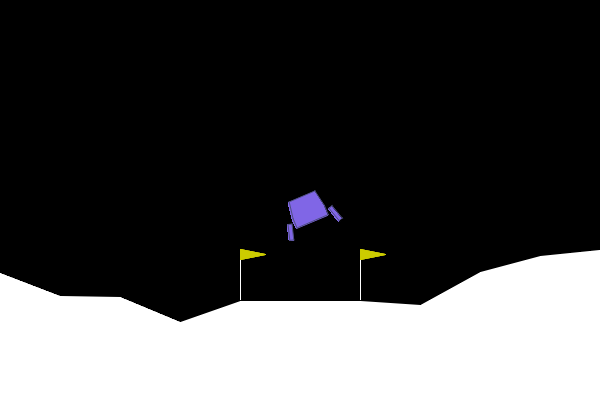lander: (273, 183, 344, 243)
